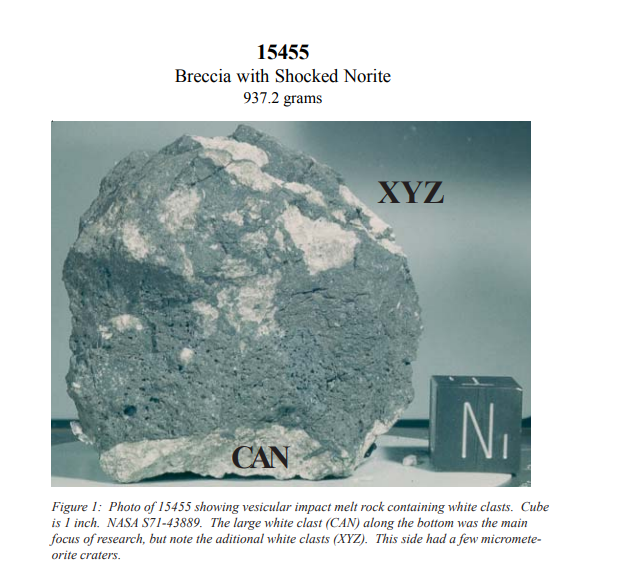Breccia: (85, 147, 424, 480), (108, 203, 350, 414)
